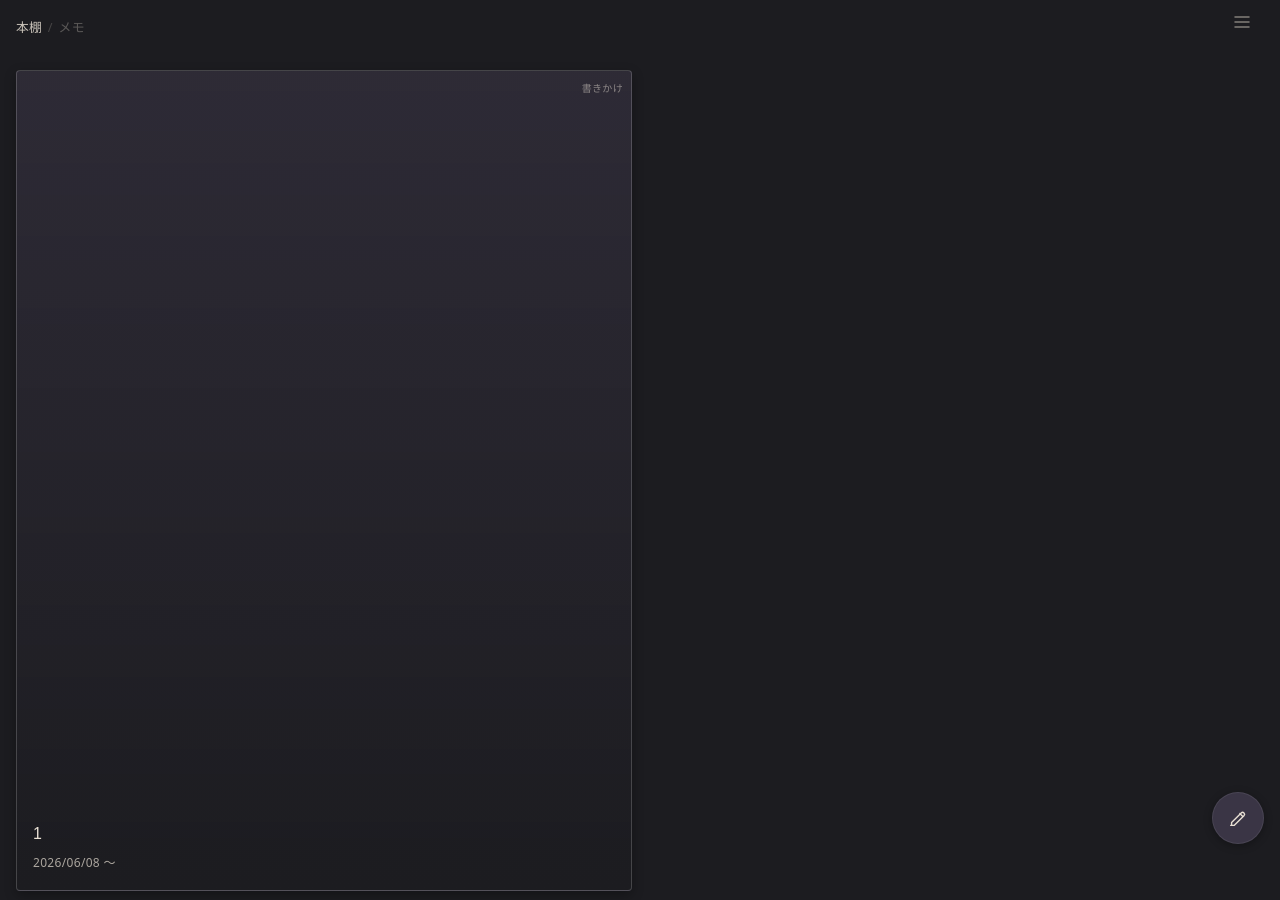
Test: BookshelfPage calendar modal › メニューの「カレンダー」項目で dialog が出現する
The width and height of the screenshot is (1280, 900).
Expected: the link with aria-label "ノート 1" is shown, [16,70,632,891]
What coordinates should you click on to do the following:
click the button named "メニューを開く"
I would click on:
 (1242, 22)
Its box is [1220,0,1264,44].
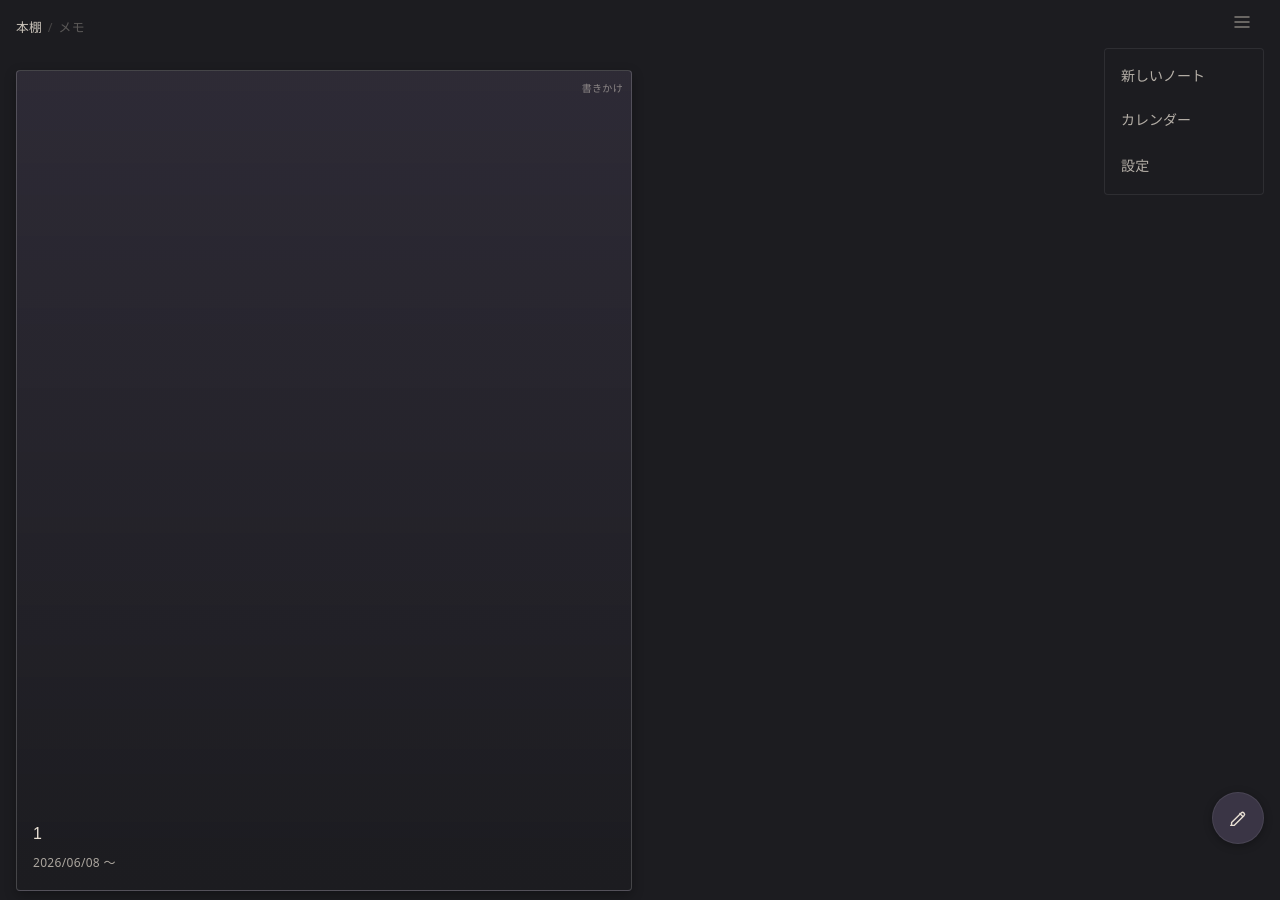
What coordinates should you click on to do the following:
click the menu item "カレンダー"
I would click on:
 (1184, 119)
Its box is [1105,97,1263,141].
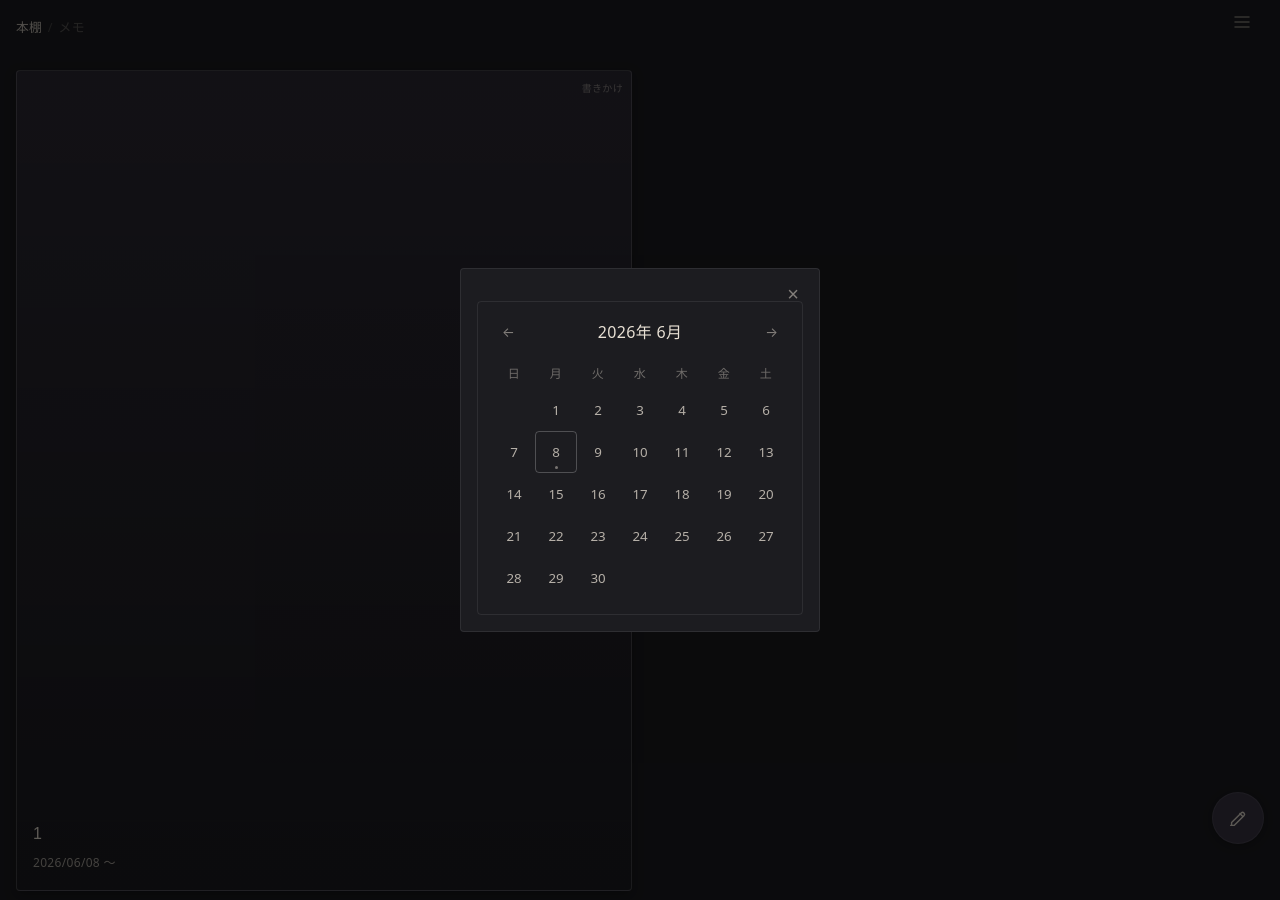
Result: the dialog named "カレンダー" is shown
